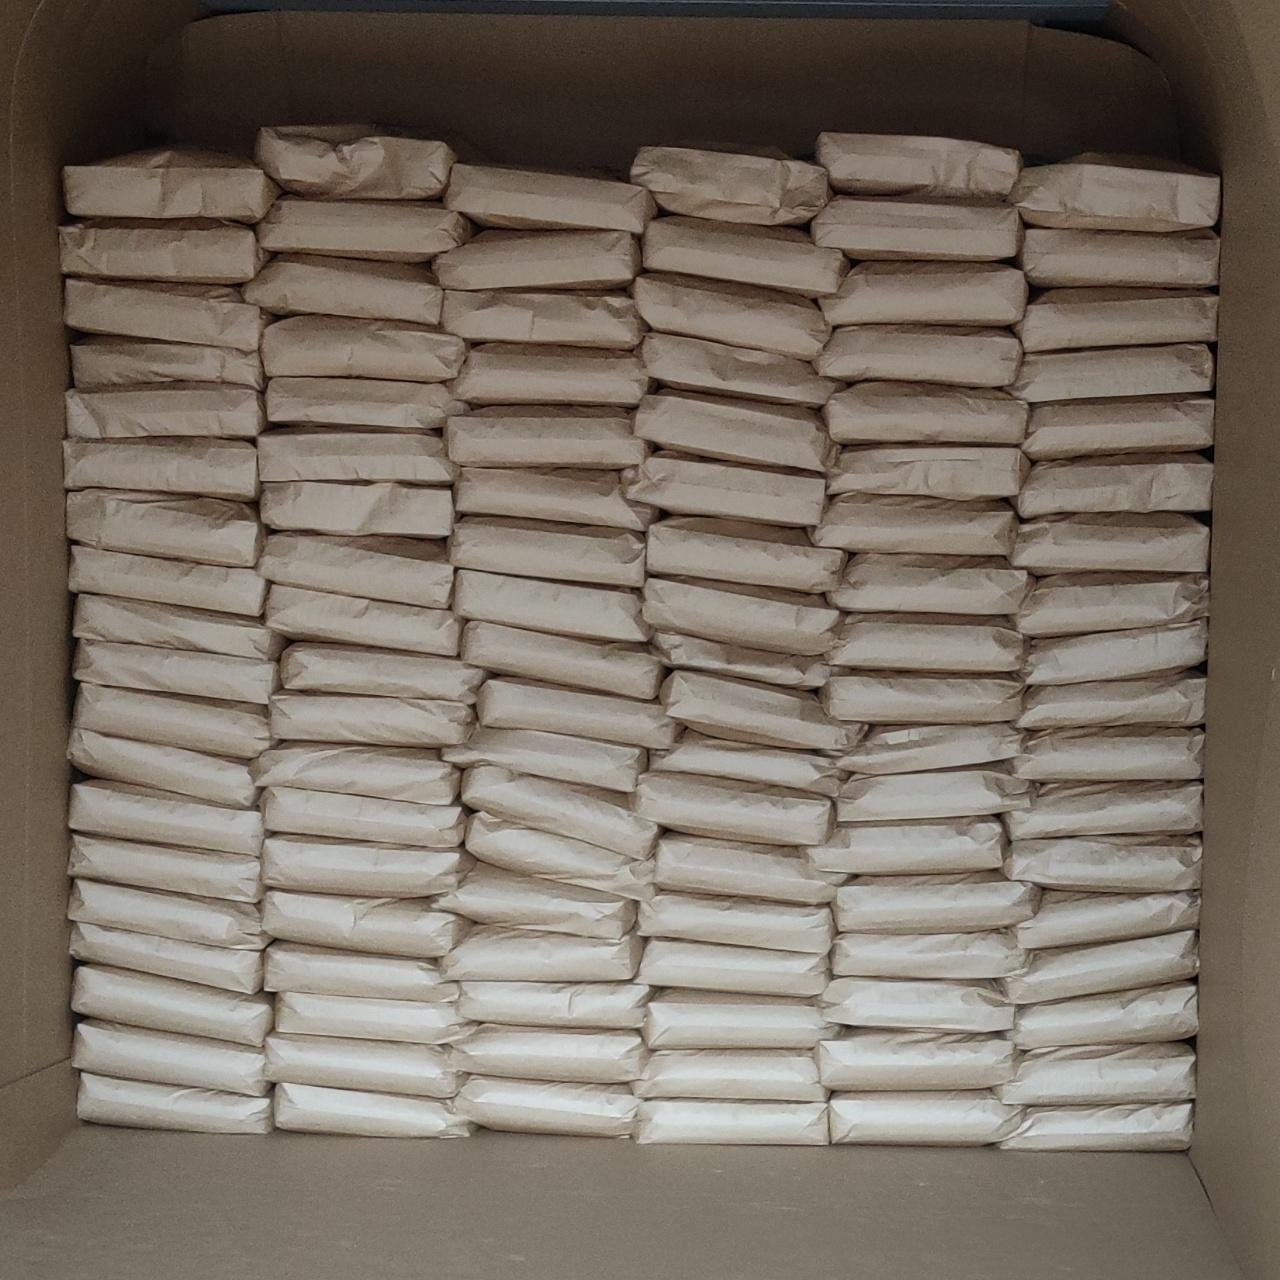sack: (462, 765, 658, 859), (660, 670, 867, 754), (635, 390, 839, 475), (632, 274, 829, 359), (1008, 154, 1218, 232), (465, 812, 652, 900), (644, 217, 847, 297), (72, 966, 272, 1046), (434, 862, 635, 940), (641, 332, 845, 408), (68, 723, 254, 806), (646, 516, 846, 593), (631, 147, 828, 225), (463, 621, 661, 699), (68, 489, 263, 567), (443, 163, 655, 234), (64, 151, 275, 223), (644, 578, 840, 654), (634, 771, 835, 845), (72, 1020, 268, 1095), (69, 779, 263, 856), (64, 278, 264, 352), (256, 125, 455, 199), (478, 678, 679, 750), (622, 455, 825, 526), (74, 685, 268, 758), (452, 570, 649, 642), (259, 535, 452, 608), (1003, 932, 1197, 1005), (263, 890, 468, 958), (258, 197, 470, 263), (265, 585, 459, 656), (444, 726, 646, 794), (69, 879, 267, 948), (243, 256, 441, 325), (654, 832, 845, 904), (455, 467, 659, 533), (450, 517, 644, 587), (651, 730, 850, 798), (60, 219, 266, 285), (811, 197, 1024, 260), (72, 922, 263, 993), (263, 316, 467, 382), (69, 547, 265, 615), (821, 263, 1027, 327), (1005, 981, 1197, 1050), (73, 595, 282, 659), (822, 381, 1027, 445), (74, 640, 277, 704), (817, 132, 1020, 197), (69, 835, 260, 903), (1017, 454, 1213, 519), (1016, 288, 1216, 353), (812, 325, 1021, 386), (266, 1032, 456, 1098), (832, 872, 1040, 933), (445, 407, 647, 469), (1021, 618, 1207, 685), (433, 230, 640, 290), (452, 343, 648, 407), (263, 837, 469, 897), (812, 496, 1017, 556), (1016, 573, 1208, 636), (251, 744, 458, 803), (263, 787, 462, 847), (830, 554, 1028, 615), (63, 438, 257, 501), (281, 644, 484, 702), (442, 292, 644, 350), (1010, 345, 1212, 403), (77, 1073, 271, 1133), (639, 893, 832, 954), (644, 990, 840, 1050), (998, 1044, 1194, 1104), (1021, 229, 1218, 288), (1021, 399, 1213, 459), (817, 1032, 1013, 1091), (1012, 515, 1207, 574), (445, 1024, 644, 1083), (1006, 782, 1201, 840), (639, 938, 828, 998), (265, 942, 457, 1001), (806, 818, 1006, 874), (452, 1076, 639, 1136), (261, 481, 452, 538), (271, 693, 474, 747), (274, 1083, 472, 1138), (441, 926, 642, 980), (828, 447, 1028, 501), (258, 431, 454, 486), (67, 384, 266, 438), (828, 617, 1022, 672), (1005, 837, 1201, 891), (265, 377, 465, 430), (275, 992, 471, 1046), (1012, 726, 1203, 781), (1015, 674, 1206, 729), (652, 632, 831, 690), (1016, 891, 1199, 948), (822, 978, 1013, 1032), (72, 338, 263, 390), (836, 769, 1029, 821), (830, 1091, 1019, 1144), (821, 674, 1022, 723), (832, 931, 1033, 980), (458, 980, 653, 1030), (633, 1050, 828, 1099), (998, 1103, 1193, 1150), (838, 724, 1021, 774), (635, 1099, 829, 1144)
